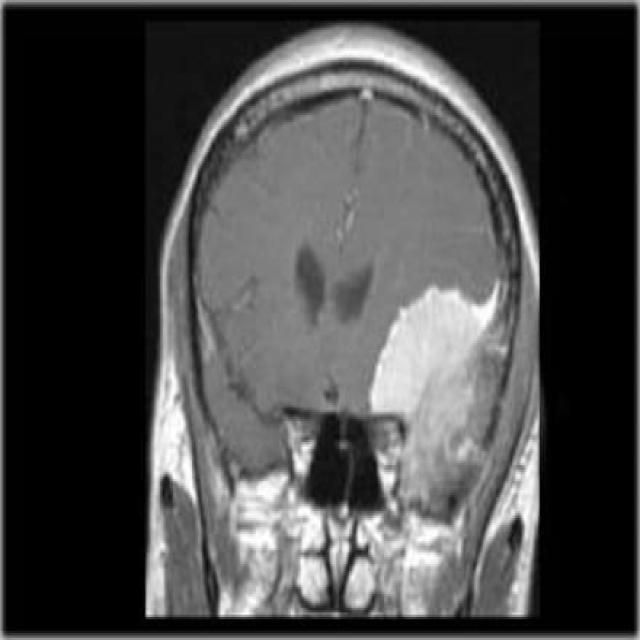brain_tumor: (371, 287, 496, 416)
